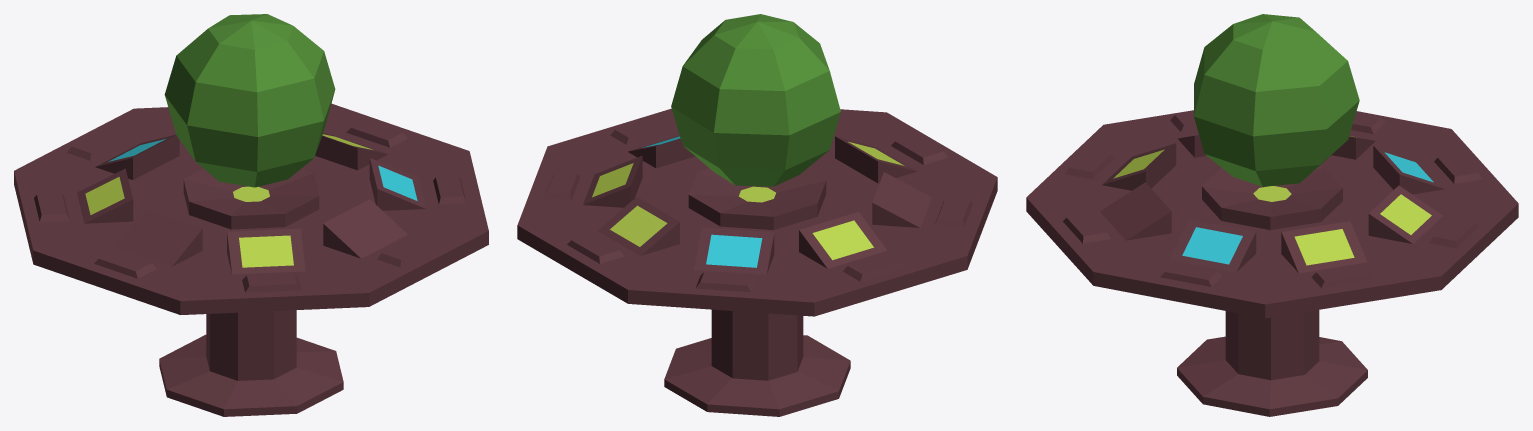
Rendered from scifi-table-round-control.fbx.
The picture shows the model from 3 angles, left to right: view 1: azimuth 30°, elevation 25°; view 2: azimuth 150°, elevation 25°; view 3: azimuth 270°, elevation 25°; orthographic projection.
Parts seen in each view (by area): view 1: scifi-table-round-control; view 2: scifi-table-round-control; view 3: scifi-table-round-control.
Part boxes in pixels (x1,y1,x2,y2): scifi-table-round-control: (14, 14, 488, 416); scifi-table-round-control: (517, 14, 997, 416); scifi-table-round-control: (1026, 14, 1518, 416).
Size of the model in its own units: 2.03 by 1.61 by 2.03.
